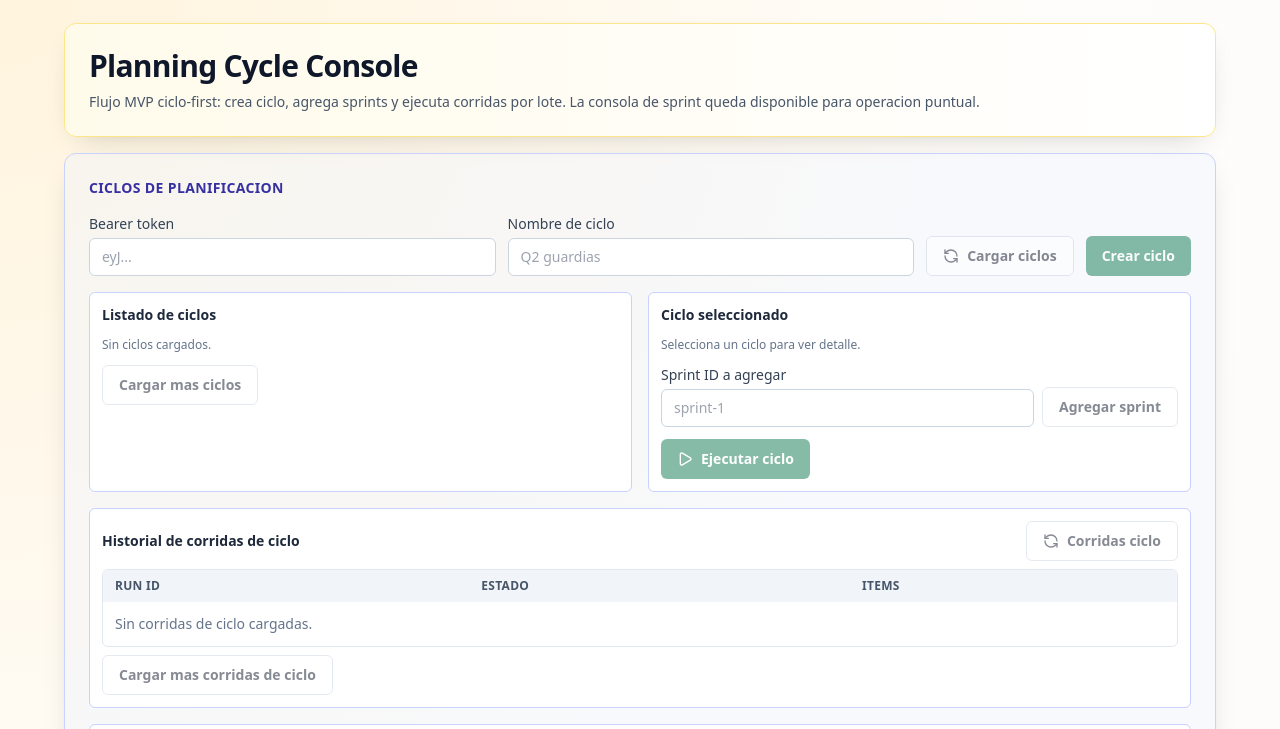
it: App › loads more planning cycle runs with cursor pagination
In the field labelled "Bearer token": (292, 257) [89,238,496,276], type "token-1"
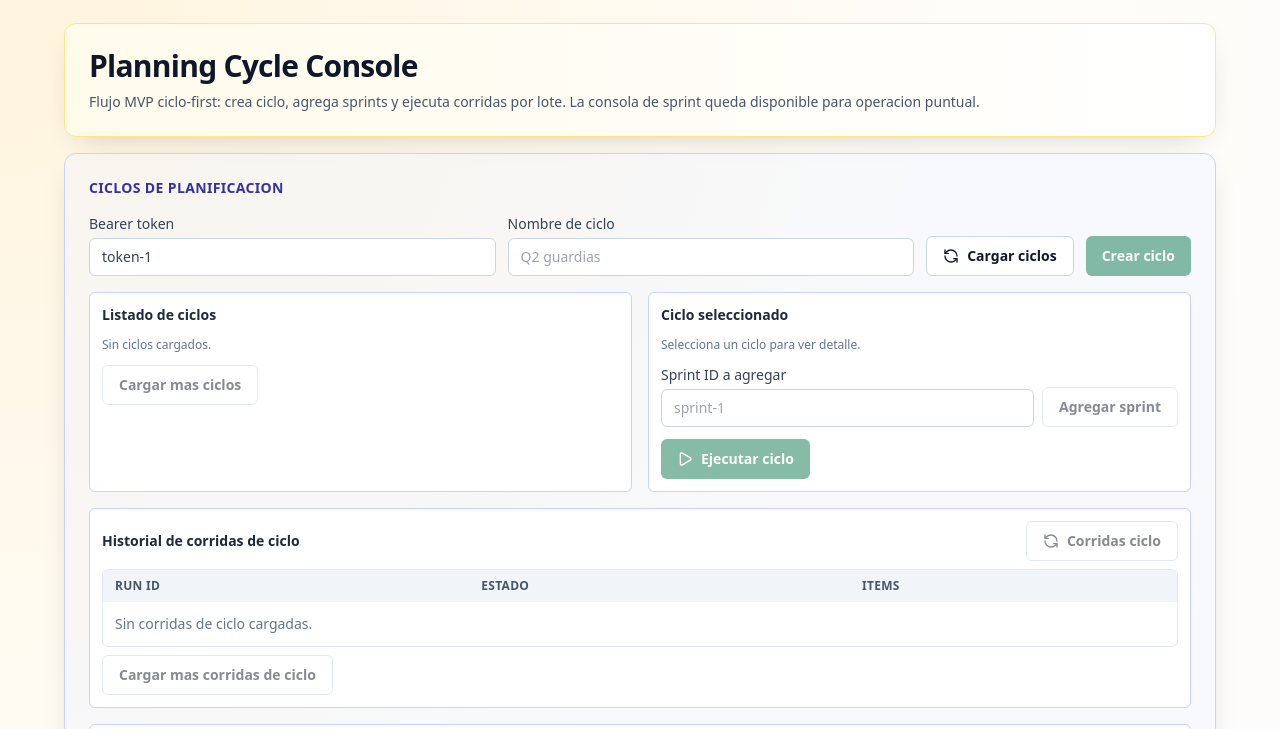
Click the button "Cargar ciclos": (1000, 256) [926,236,1074,276]
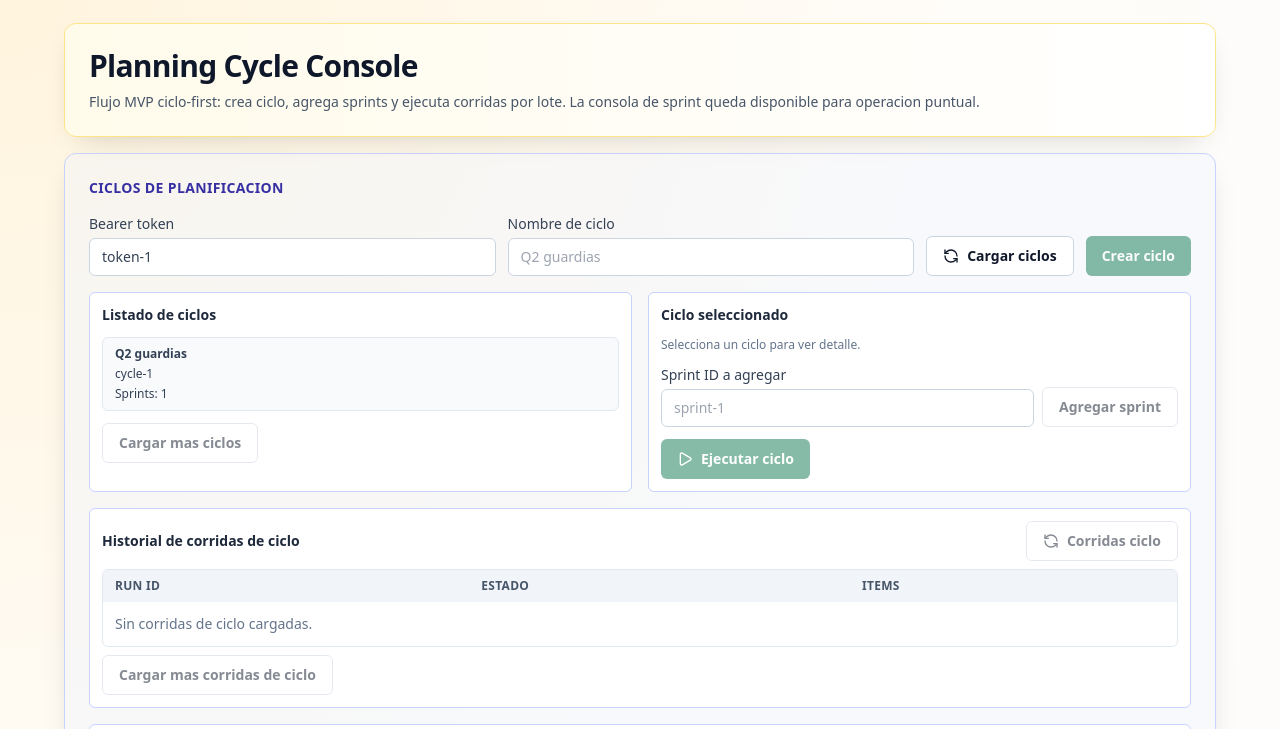
Now the text "Q2 guardias" is shown
Click the text "Q2 guardias": (151, 354) [115,345,187,362]
(page scrolled)
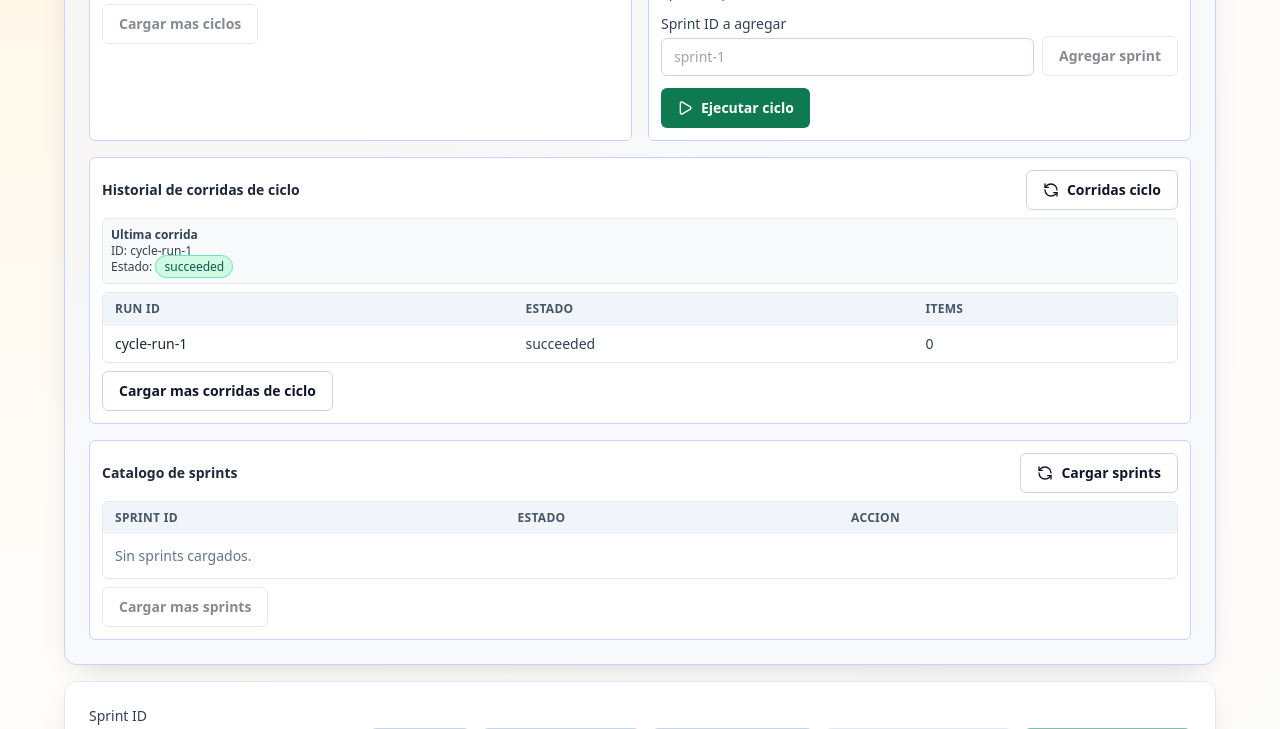
Now the text "cycle-run-1" is shown, box [103,326,514,362]
Click the button "Cargar mas corridas de ciclo": (217, 391) [102,371,333,411]
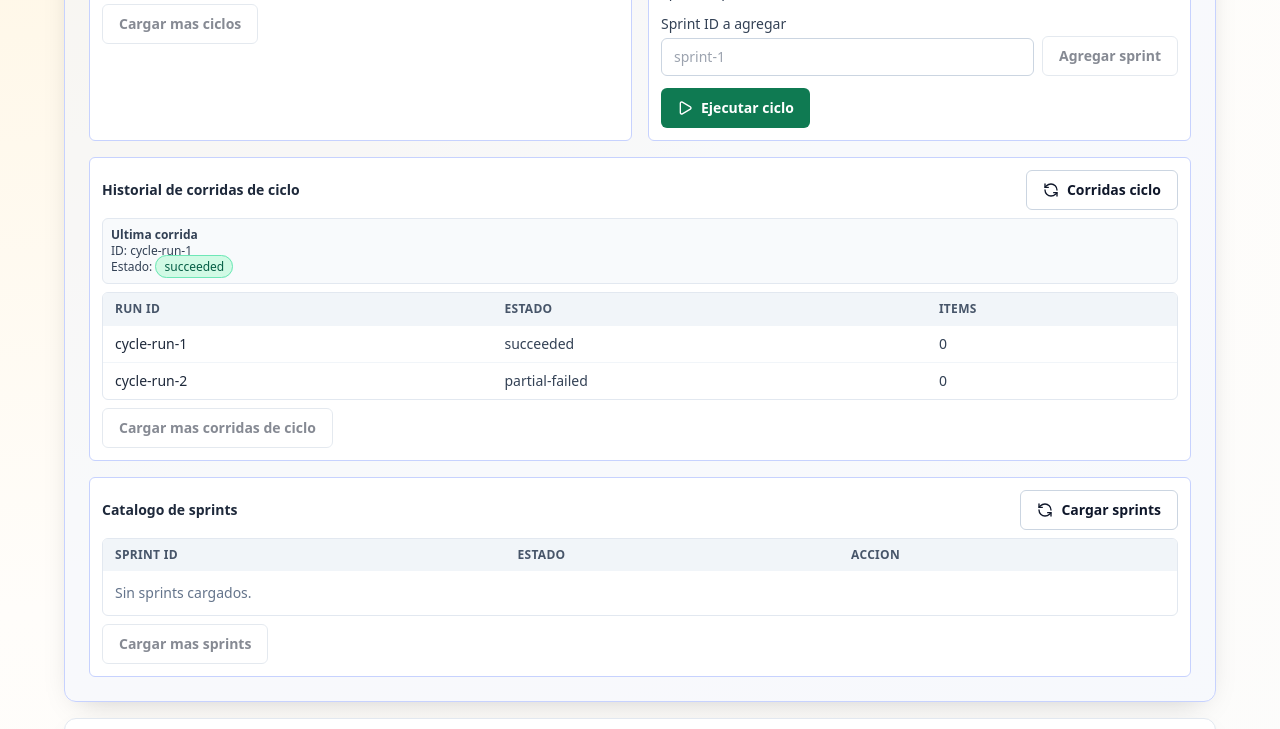
Now the text "cycle-run-2" is shown, box [103,362,492,399]
